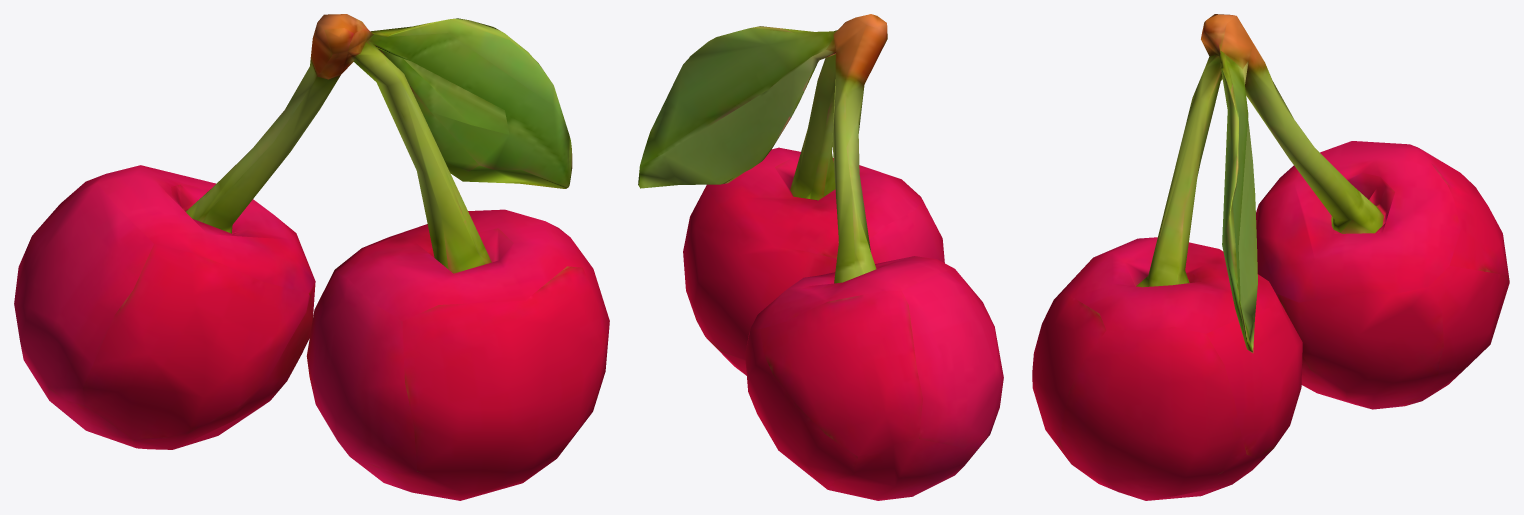
File: cherry.glb
The picture shows the model from 3 angles, left to right: view 1: azimuth 30°, elevation 25°; view 2: azimuth 150°, elevation 25°; view 3: azimuth 270°, elevation 25°; orthographic projection. The views are drawn at different scales.
Visible parts, largest first — view 1: textured_mesh.obj; view 2: textured_mesh.obj; view 3: textured_mesh.obj.
Part boxes in pixels (box(x1,y1,x2,y2)): textured_mesh.obj: box(14, 14, 609, 500); textured_mesh.obj: box(638, 14, 1003, 500); textured_mesh.obj: box(1032, 14, 1509, 500).
Size of what is drawn, in the model's own units: 0.208 by 0.1995 by 0.1989.
1 material, 1 textured.
